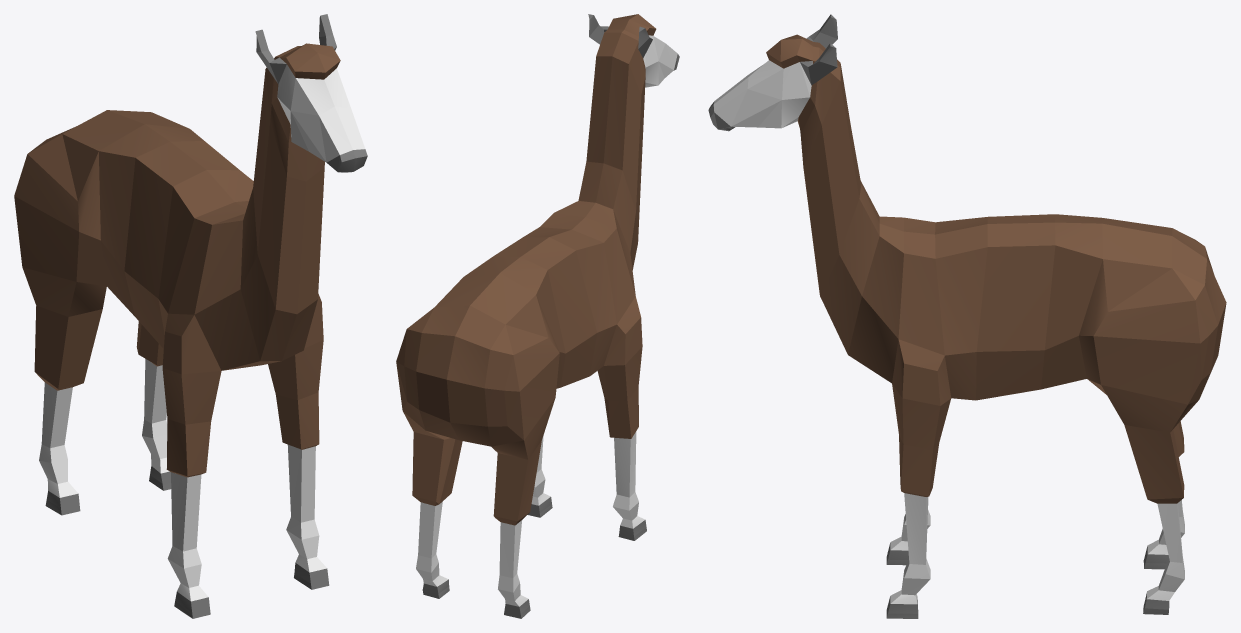
The model's file is bete-llama.glb.
The picture shows the model from 3 angles, left to right: view 1: azimuth 30°, elevation 25°; view 2: azimuth 150°, elevation 25°; view 3: azimuth 270°, elevation 25°; orthographic projection. The views are drawn at different scales.
Visible parts, largest first — view 1: Cylinder, Cylinder_1, Cylinder_2; view 2: Cylinder, Cylinder_1, Cylinder_2; view 3: Cylinder, Cylinder_1, Cylinder_2.
Part boxes in pixels (x1,y1,x2,y2): Cylinder: [14, 43, 340, 477]; Cylinder_1: [39, 64, 365, 601]; Cylinder_2: [45, 14, 367, 618]; Cylinder: [396, 14, 656, 525]; Cylinder_1: [416, 35, 677, 606]; Cylinder_2: [422, 14, 679, 618]; Cylinder: [766, 34, 1226, 503]; Cylinder_1: [713, 60, 1184, 604]; Cylinder_2: [708, 14, 1169, 618].
Size of the model in its own units: 0.4844 by 1.8 by 1.51.
